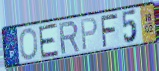5: (121, 8, 140, 45)
E: (38, 22, 60, 60)
F: (99, 12, 119, 49)
O: (19, 27, 39, 61)
P: (80, 16, 99, 52)
R: (58, 20, 81, 56)
